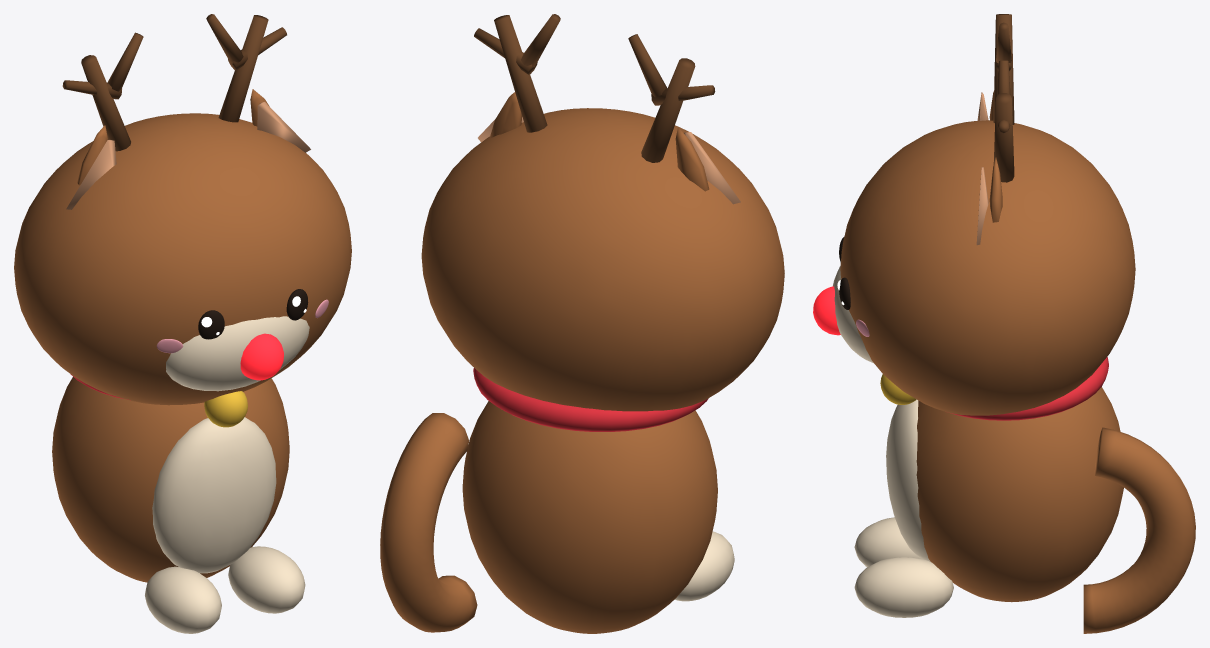
File: p-reindeer.glb
3 renders of one model, left to right at view 1: azimuth 30°, elevation 25°; view 2: azimuth 150°, elevation 25°; view 3: azimuth 270°, elevation 25°, orthographic. The views are drawn at different scales.
Parts seen in each view (by area): view 1: p-reindeer, ear-R, ear-L, blink-R, blink-L; view 2: p-reindeer, wag, ear-R, ear-L; view 3: p-reindeer, wag, ear-L.
Part boxes in pixels (x1=…): p-reindeer: x1=14, y1=14, x2=351, y2=633; ear-R: x1=66, y1=125, x2=116, y2=209; ear-L: x1=250, y1=89, x2=310, y2=152; blink-R: x1=198, y1=310, x2=224, y2=339; blink-L: x1=286, y1=289, x2=308, y2=320; p-reindeer: x1=421, y1=14, x2=784, y2=633; wag: x1=380, y1=413, x2=477, y2=632; ear-R: x1=675, y1=127, x2=740, y2=204; ear-L: x1=478, y1=92, x2=523, y2=142; p-reindeer: x1=813, y1=14, x2=1135, y2=617; wag: x1=1083, y1=427, x2=1195, y2=633; ear-L: x1=976, y1=157, x2=1002, y2=245.
Bounding box in the file's own units: 0.1712 × 0.3 × 0.1883.
